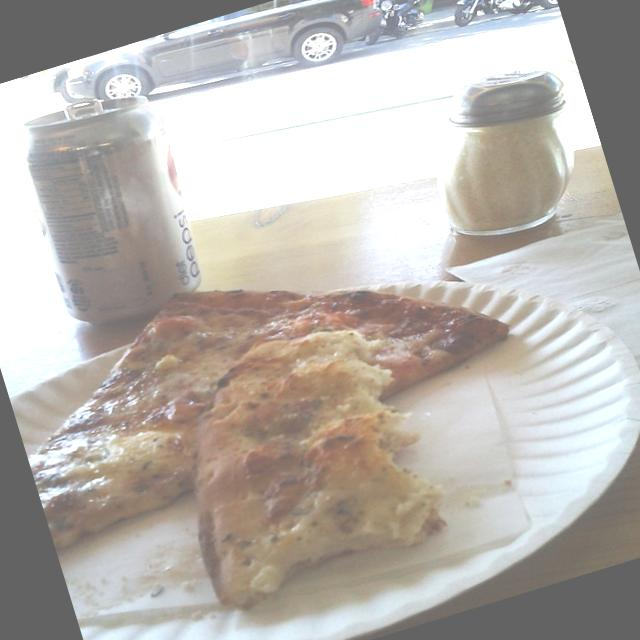Vehicle: (51, 0, 389, 138), (34, 32, 172, 98), (347, 0, 451, 49), (436, 0, 558, 35)
